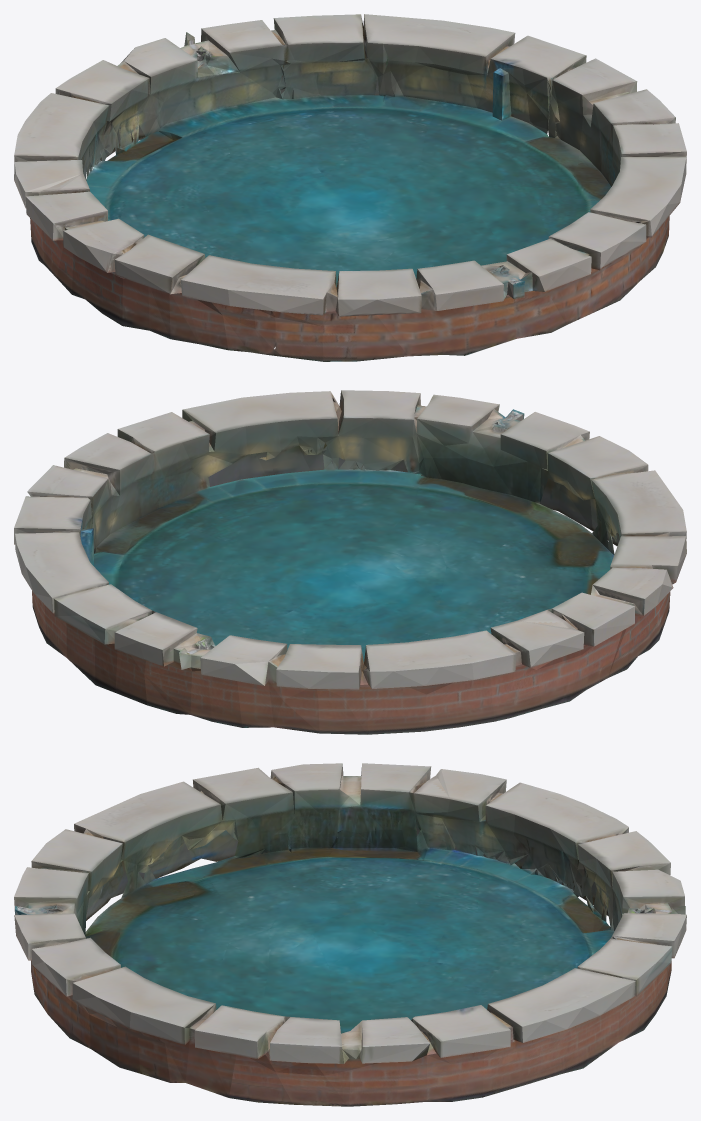
Rendered from Moonlit_Courtyard_Poo_0415015501_texture.fbx.
3 renders of one model, top to bottom at view 1: azimuth 30°, elevation 25°; view 2: azimuth 150°, elevation 25°; view 3: azimuth 270°, elevation 25°, orthographic.
Parts seen in each view (by area): view 1: temp; view 2: temp; view 3: temp.
Part boxes in pixels (x1,y1,x2,y2): temp: [14, 14, 686, 361]; temp: [14, 390, 686, 734]; temp: [14, 763, 686, 1106].
Bounding box in the file's own units: 199 × 25.22 × 200.
1 material, 1 textured.
